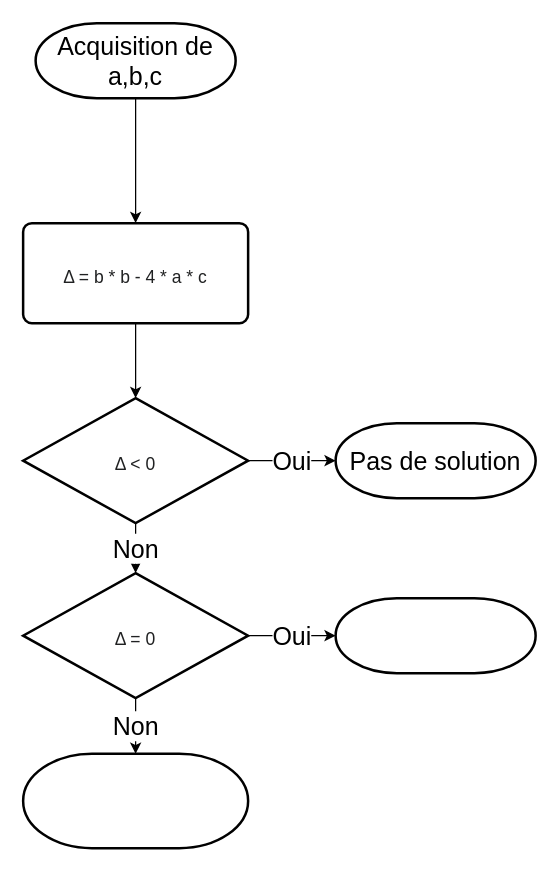
This 558x870 diagram has some shape labels left out. Here are the shapes that lost their labels. From the top down, the centre of each, then its label:
pixel 435 635: Calcul de x1
pixel 135 800: Calcul de x1 et x2
